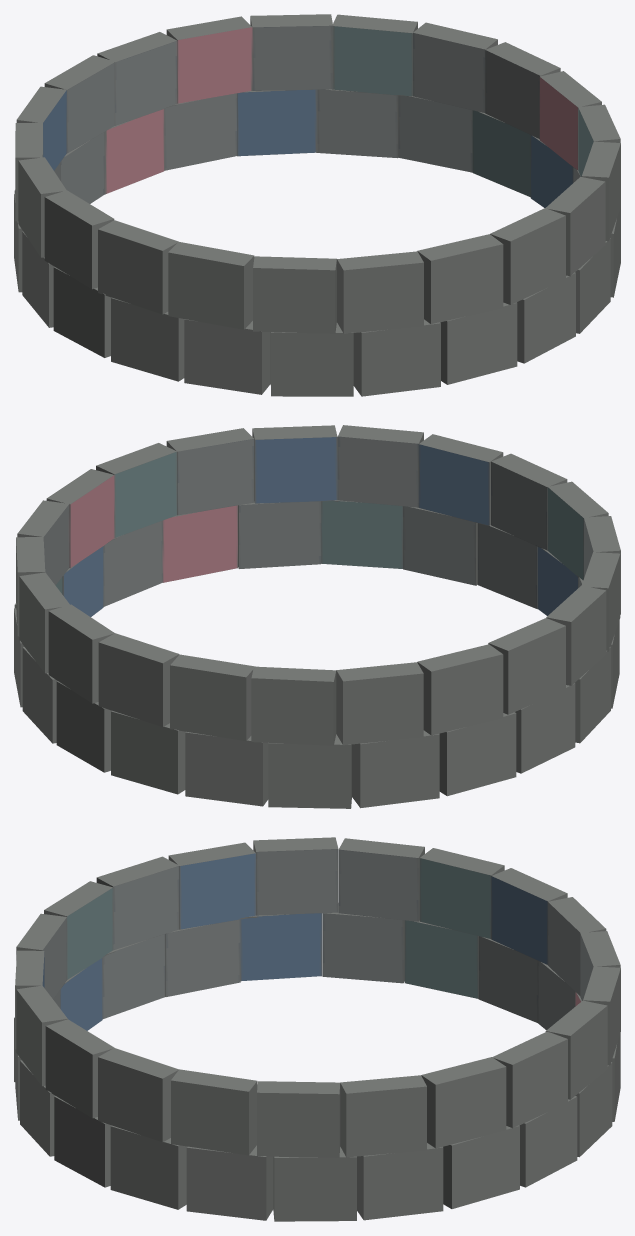
File: well1_with_texture.fbx
The picture shows the model from 3 angles, top to bottom: view 1: azimuth 30°, elevation 25°; view 2: azimuth 150°, elevation 25°; view 3: azimuth 270°, elevation 25°; orthographic projection.
Visible parts, largest first — view 1: polySurface130, polySurface132, polySurface131, polySurface144, polySurface135, polySurface124, polySurface143, polySurface125, polySurface109, polySurface139, polySurface111, polySurface110 (+28 smaller); view 2: polySurface137, polySurface138, polySurface133, polySurface134, polySurface142, polySurface136, polySurface129, polySurface135, polySurface116, polySurface143, polySurface117, polySurface121 (+28 smaller); view 3: polySurface126, polySurface128, polySurface127, polySurface140, polySurface141, polySurface125, polySurface139, polySurface136, polySurface107, polySurface129, polySurface105, polySurface106 (+27 smaller).
Boxes of the visible parts, <box> form: polySurface130: <box>337,251,423,333</box>; polySurface132: <box>168,241,254,329</box>; polySurface131: <box>253,256,336,333</box>; polySurface144: <box>250,14,333,90</box>; polySurface135: <box>417,234,503,323</box>; polySurface124: <box>332,14,417,96</box>; polySurface143: <box>166,16,252,103</box>; polySurface125: <box>413,22,497,112</box>; polySurface109: <box>353,319,440,396</box>; polySurface139: <box>98,220,178,314</box>; polySurface111: <box>184,319,270,394</box>; polySurface110: <box>270,323,353,396</box>; polySurface137: <box>336,662,423,745</box>; polySurface138: <box>251,666,336,745</box>; polySurface133: <box>252,425,337,503</box>; polySurface134: <box>337,425,423,507</box>; polySurface142: <box>170,654,255,740</box>; polySurface136: <box>417,644,503,735</box>; polySurface129: <box>166,428,254,515</box>; polySurface135: <box>418,434,503,525</box>; polySurface116: <box>352,730,439,808</box>; polySurface143: <box>98,633,179,726</box>; polySurface117: <box>268,734,351,808</box>; polySurface121: <box>185,731,268,806</box>; polySurface126: <box>340,1075,426,1157</box>; polySurface128: <box>171,1069,257,1155</box>; polySurface127: <box>257,1081,340,1157</box>; polySurface140: <box>253,837,338,915</box>; polySurface141: <box>338,838,424,921</box>; polySurface125: <box>421,1057,506,1148</box>; polySurface139: <box>168,842,255,929</box>; polySurface136: <box>419,848,504,938</box>; polySurface107: <box>186,1145,273,1220</box>; polySurface129: <box>98,1048,178,1142</box>; polySurface105: <box>357,1143,443,1220</box>; polySurface106: <box>273,1147,356,1221</box>.
Size of the model in its own units: 7.82 by 1.87 by 7.89.
1 material, 1 textured.
